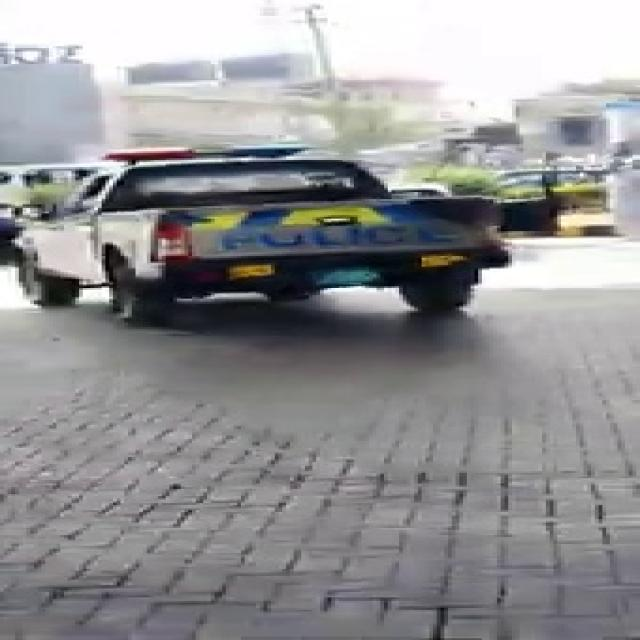police: (0, 110, 561, 316)
